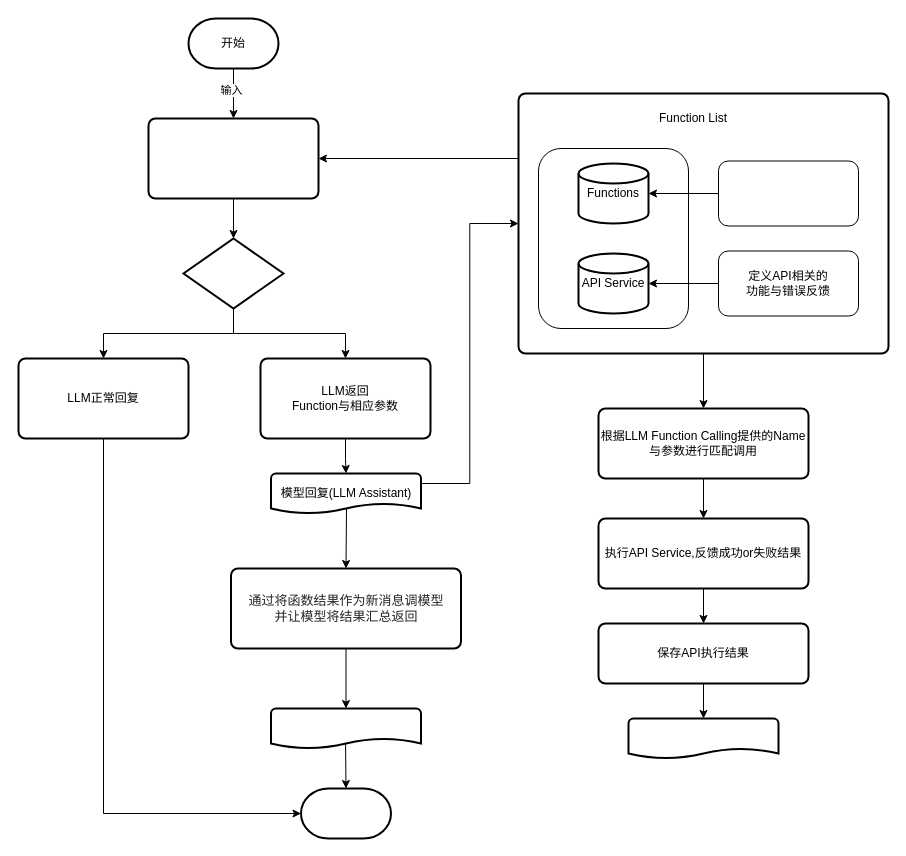
Some shapes in this 906 by 856 pixel diagram are drawn without their labels. Each missing label, with the centre of its shape:
"Function Response" goes at pixel 703 738.
"定义API函数的 Json Schema" goes at pixel 788 193.
"是否调用函数" goes at pixel 233 273.
"模型回复" goes at pixel 346 728.
"用户查询和函数定义列表 调用LLM" goes at pixel 233 158.
"结束" goes at pixel 346 813.
